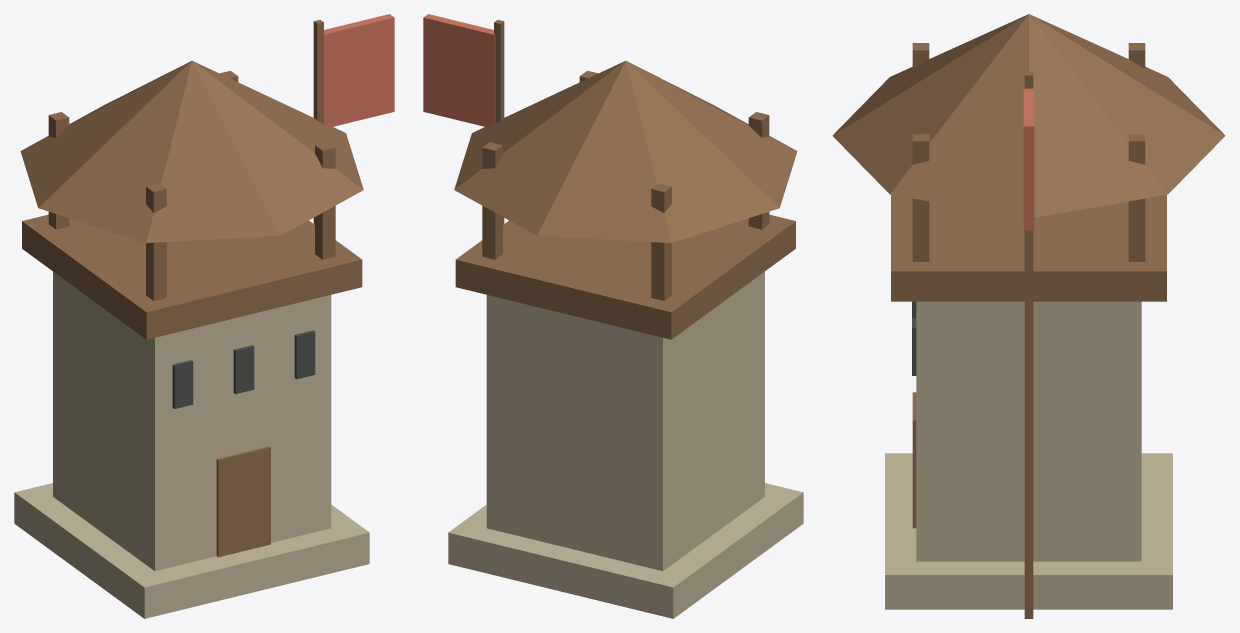
Rendered from tower.glb.
3 views of the same model, side by side, from view 1: azimuth 30°, elevation 25°; view 2: azimuth 150°, elevation 25°; view 3: azimuth 270°, elevation 25° (orthographic). The views are drawn at different scales.
Visible parts, largest first — view 1: tower_body, roof, platform, tower_base, banner, door, pillar, pillar.002, banner_pole, window.002, window, window.001 (+1 smaller); view 2: tower_body, roof, platform, tower_base, banner, pillar.001, pillar.003, banner_pole, pillar; view 3: tower_body, roof, platform, tower_base, banner_pole, banner, pillar.002, pillar.003, door.
Part boxes in pixels (x1,y1,x2,y2): tower_body: (53,271,331,570); roof: (20,60,363,243); platform: (22,214,362,339); tower_base: (14,483,369,618); banner: (322,14,394,127); door: (216,446,270,557); pillar: (146,183,166,300); pillar.002: (315,142,335,259); banner_pole: (313,20,323,224); window.002: (294,330,315,379); window: (172,360,193,408); window.001: (233,345,254,394); tower_body: (486,271,764,570); roof: (454,60,797,243); platform: (455,214,795,339); tower_base: (448,483,803,618); banner: (423,14,495,127); pillar.001: (651,183,671,300); pillar.003: (482,142,502,259); banner_pole: (494,20,504,224); pillar: (748,112,769,229); tower_body: (916,301,1141,561); roof: (832,14,1225,217); platform: (891,194,1166,301); tower_base: (885,453,1172,609); banner_pole: (1024,72,1033,618); banner: (1023,87,1034,230); pillar.002: (912,134,929,261); pillar.003: (1128,134,1145,261); door: (912,392,916,528).
Size of the model in its own units: 3.77 by 5 by 3.28.
